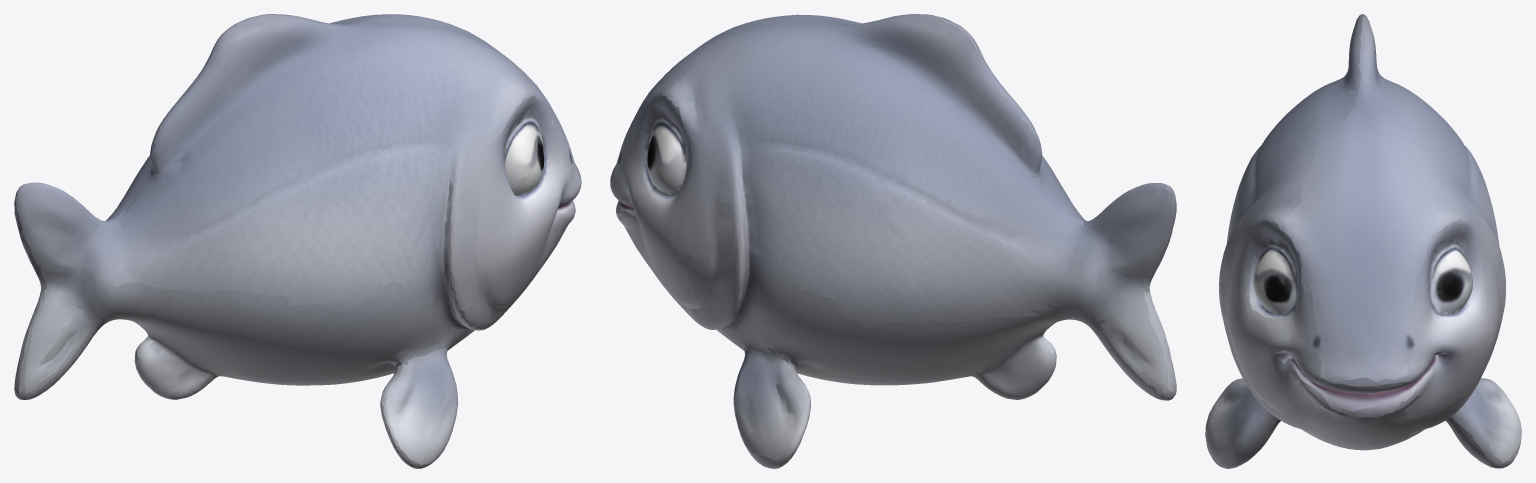
3 views of the same model, side by side, from view 1: azimuth 30°, elevation 25°; view 2: azimuth 150°, elevation 25°; view 3: azimuth 270°, elevation 25° (orthographic). The views are drawn at different scales.
Visible parts, largest first — view 1: world; view 2: world; view 3: world.
Boxes of the visible parts, x1,y1,x2,y2 form: world: (14, 14, 581, 468); world: (610, 14, 1176, 468); world: (1205, 14, 1521, 468).
Size of the model in its own units: 0.12 by 0.0864 by 0.062.
1 material, 1 textured.
